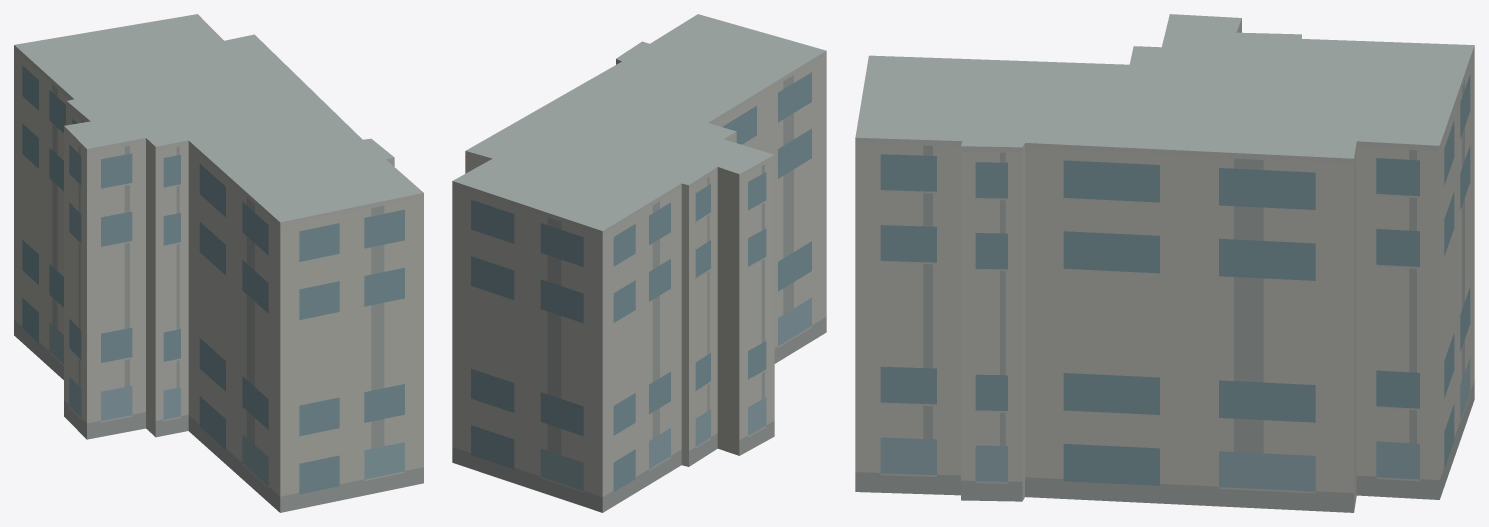
The model's file is survey-upis-32643949.glb.
3 renders of one model, left to right at view 1: azimuth 30°, elevation 25°; view 2: azimuth 150°, elevation 25°; view 3: azimuth 270°, elevation 25°, orthographic. The views are drawn at different scales.
Parts seen in each view (by area): view 1: survey-upis-32643949.tmp; view 2: survey-upis-32643949.tmp; view 3: survey-upis-32643949.tmp.
Boxes of the visible parts, x1=… form: survey-upis-32643949.tmp: x1=14, y1=14, x2=423, y2=512; survey-upis-32643949.tmp: x1=452, y1=14, x2=826, y2=512; survey-upis-32643949.tmp: x1=855, y1=14, x2=1474, y2=512.
Size of the model in its own units: 13.33 by 15.2 by 24.1.
